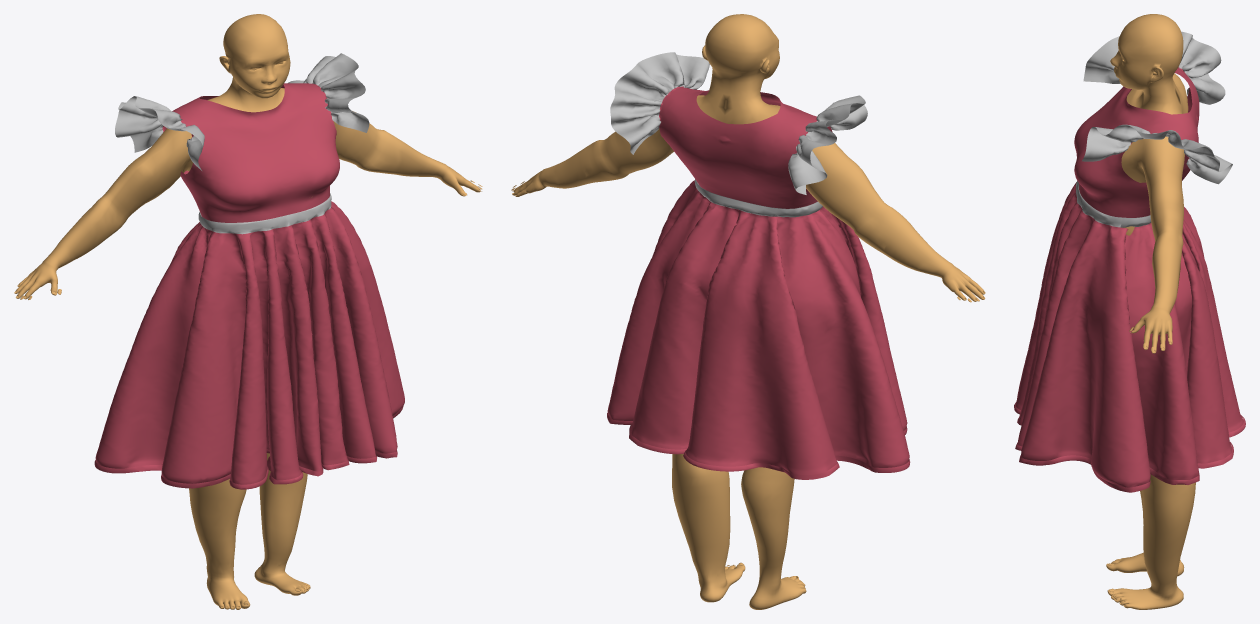
Rendered from dress4.glb.
3 renders of one model, left to right at view 1: azimuth 30°, elevation 25°; view 2: azimuth 150°, elevation 25°; view 3: azimuth 270°, elevation 25°, orthographic.
Parts seen in each view (by area): view 1: PinkDrees#14 (OBJ), Body; view 2: PinkDrees#14 (OBJ), Body; view 3: PinkDrees#14 (OBJ), Body.
Boxes of the visible parts, x1=… form: PinkDrees#14 (OBJ): x1=94, y1=53, x2=404, y2=489; Body: x1=14, y1=14, x2=481, y2=609; PinkDrees#14 (OBJ): x1=607, y1=52, x2=910, y2=479; Body: x1=512, y1=14, x2=985, y2=609; PinkDrees#14 (OBJ): x1=1014, y1=31, x2=1245, y2=492; Body: x1=1106, y1=14, x2=1195, y2=609.
Bounding box in the file's own units: 1.59 × 1.88 × 0.6849.
